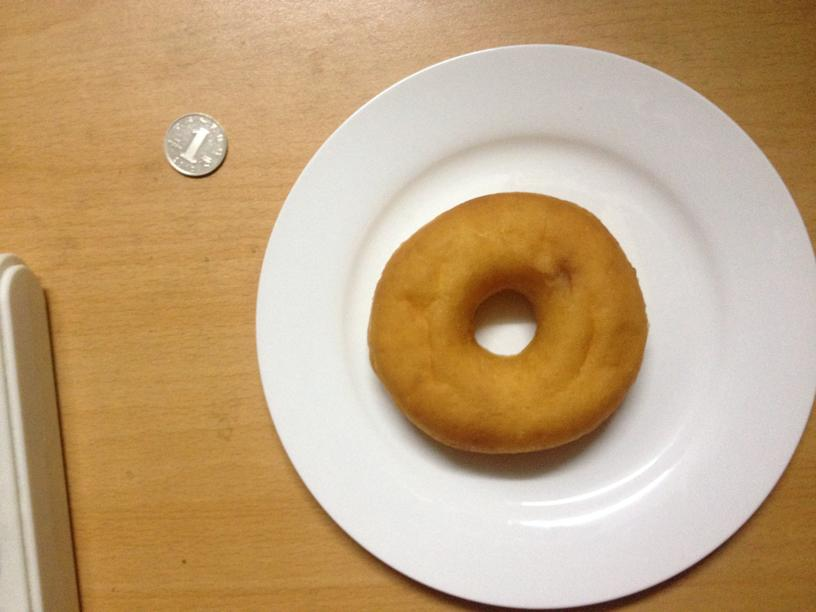coin: (162, 113, 228, 175)
doughnut: (362, 190, 647, 457)
